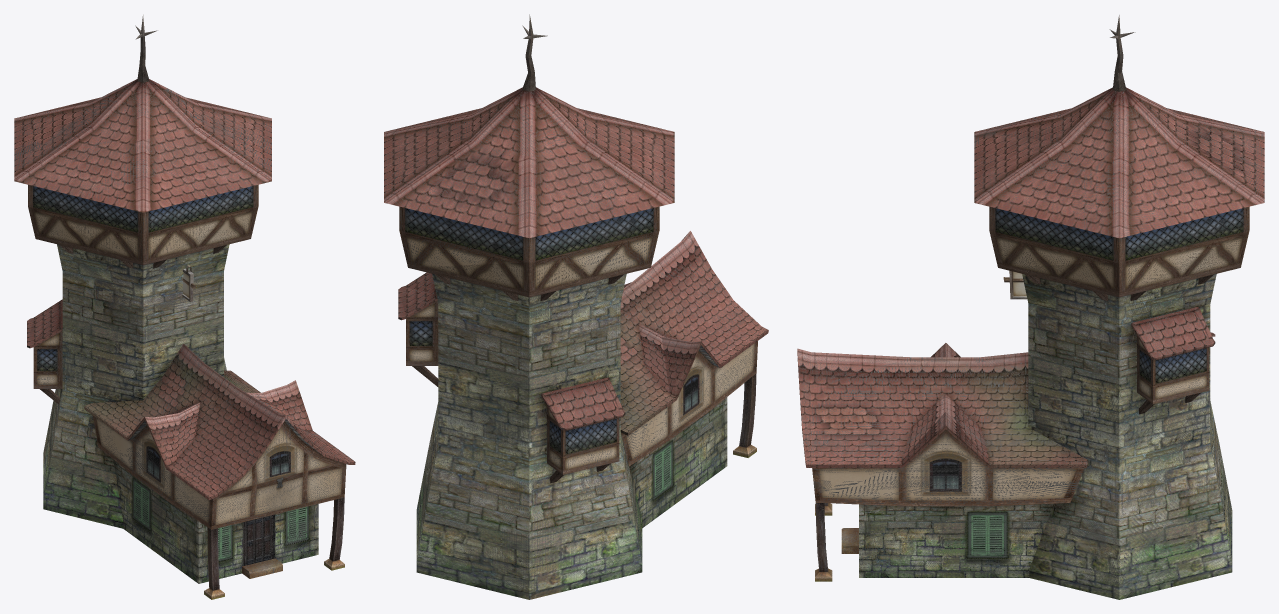
The picture shows the model from 3 angles, left to right: view 1: azimuth 30°, elevation 25°; view 2: azimuth 150°, elevation 25°; view 3: azimuth 270°, elevation 25°; orthographic projection. The views are drawn at different scales.
Parts seen in each view (by area): view 1: Old_Tower_ (×8); view 2: Old_Tower_ (×9); view 3: Old_Tower_ (×7).
Part boxes in pixels (bbox=[...]): Old_Tower_ (×8): bbox=[14, 14, 355, 599]; Old_Tower_ (×9): bbox=[384, 15, 768, 599]; Old_Tower_ (×7): bbox=[797, 87, 1264, 599].
Bounding box in the file's own units: 304 × 424 × 531.
Materials: 5 (4 with a texture image).
